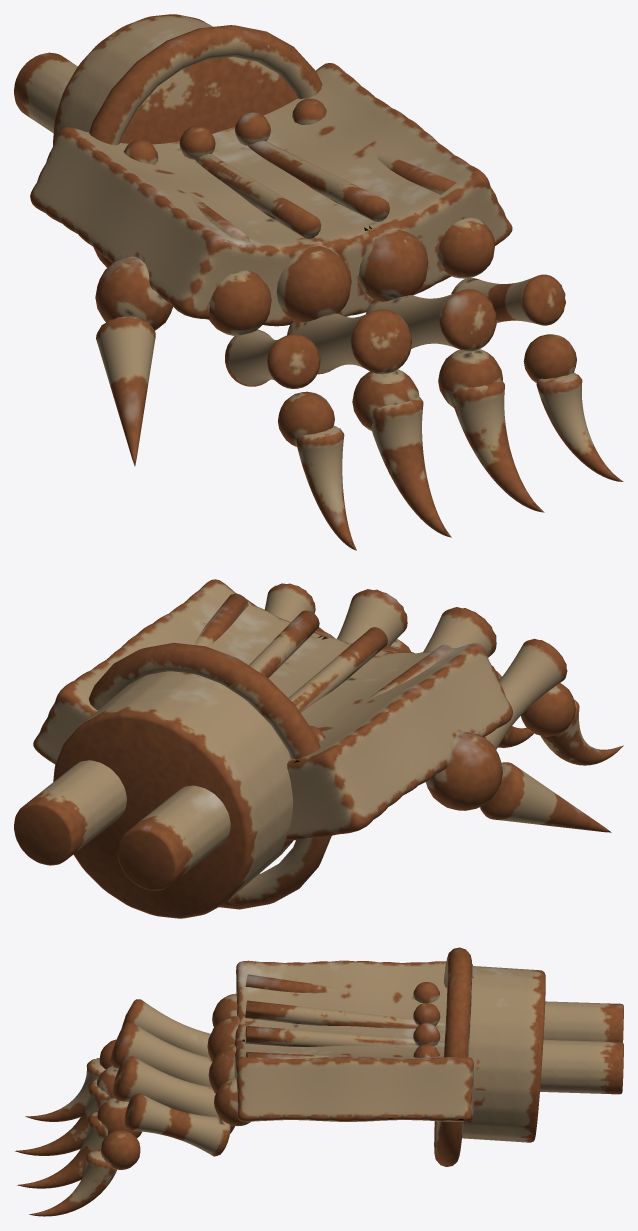
The model's file is collector-skeletal-claw.glb.
The picture shows the model from 3 angles, top to bottom: view 1: azimuth 30°, elevation 25°; view 2: azimuth 150°, elevation 25°; view 3: azimuth 270°, elevation 25°; orthographic projection. The views are drawn at different scales.
Visible parts, largest first — view 1: SM_CollectorSkeletalClaw; view 2: SM_CollectorSkeletalClaw; view 3: SM_CollectorSkeletalClaw.
Boxes of the visible parts, x1,y1,x2,y2 form: SM_CollectorSkeletalClaw: (14,14,623,550); SM_CollectorSkeletalClaw: (14,579,623,918); SM_CollectorSkeletalClaw: (15,947,623,1216).
Bounding box in the file's own units: 1.87 × 1.26 × 3.23.
Materials: 1 (1 with a texture image).
